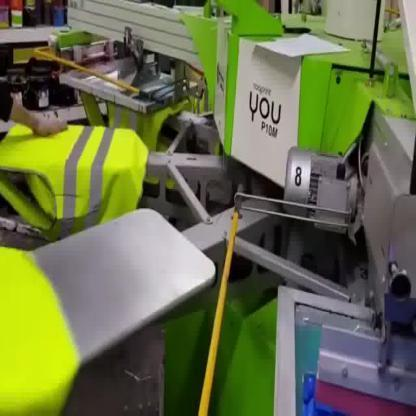vest: (0, 119, 149, 220)
